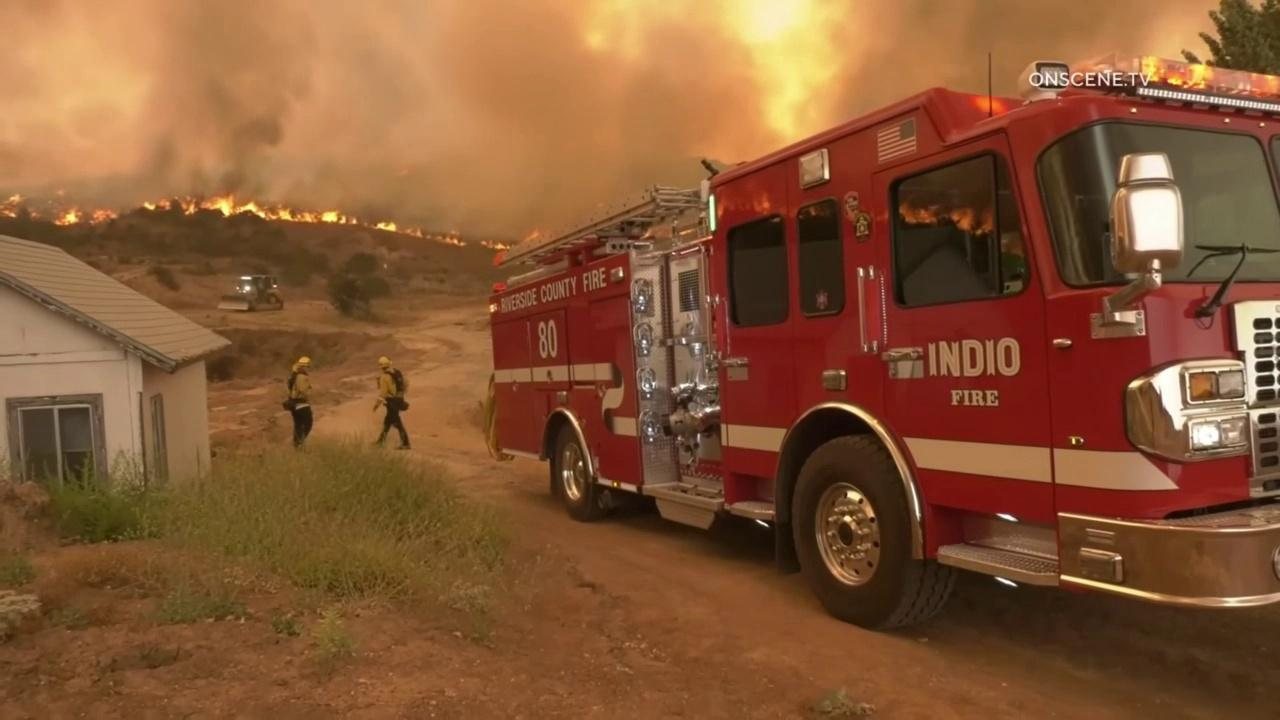fire: (143, 192, 358, 225), (406, 226, 467, 247), (88, 208, 119, 227), (54, 207, 82, 227), (480, 238, 510, 250), (372, 221, 397, 233), (7, 193, 20, 205), (0, 210, 17, 218), (526, 231, 539, 239)
smoke: (0, 0, 1222, 256)
